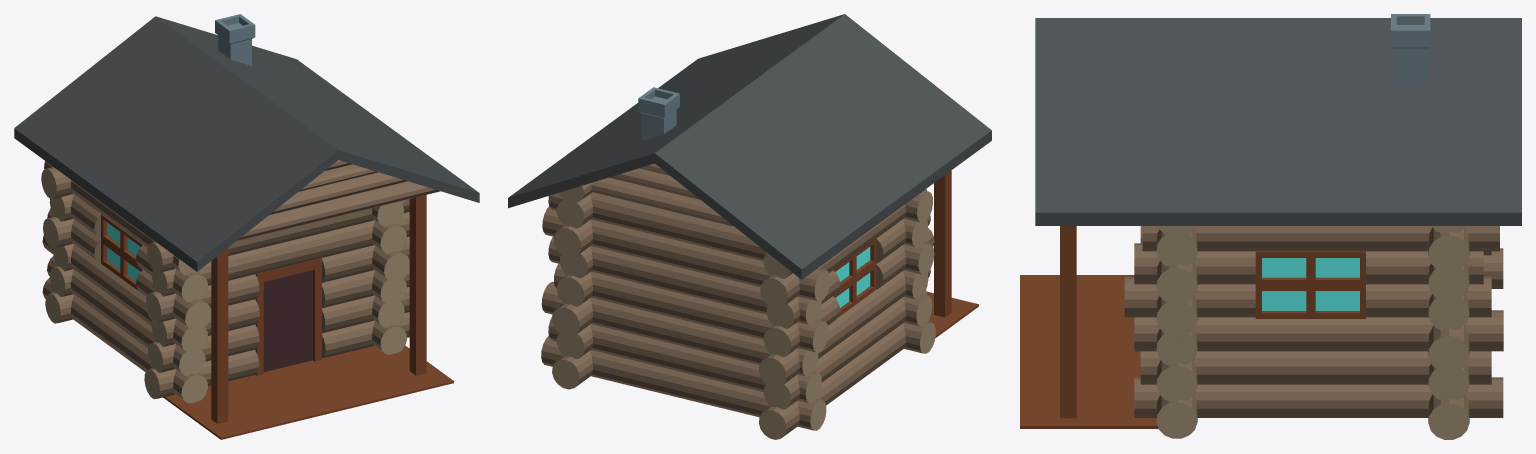
The model's file is House_1.glb.
3 views of the same model, side by side, from view 1: azimuth 30°, elevation 25°; view 2: azimuth 150°, elevation 25°; view 3: azimuth 270°, elevation 25° (orthographic). The views are drawn at different scales.
Visible parts, largest first — view 1: House 1; view 2: House 1; view 3: House 1.
Part boxes in pixels (x1=…): House 1: x1=14, y1=14, x2=479, y2=439; House 1: x1=508, y1=14, x2=991, y2=439; House 1: x1=1020, y1=14, x2=1521, y2=439.
Size of the model in its own units: 5.12 by 4.69 by 5.92.
